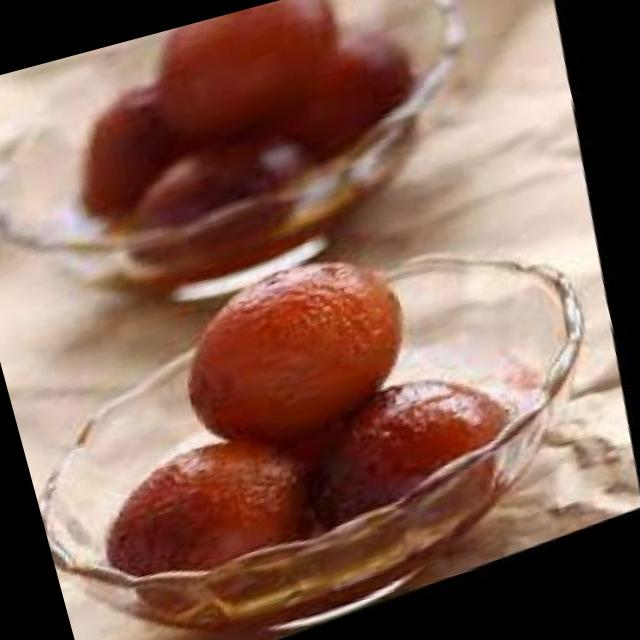gulab_jamun: (162, 237, 442, 478), (89, 414, 352, 632), (303, 358, 544, 558), (139, 0, 368, 169), (112, 124, 324, 284), (263, 12, 437, 174), (60, 75, 216, 230)
